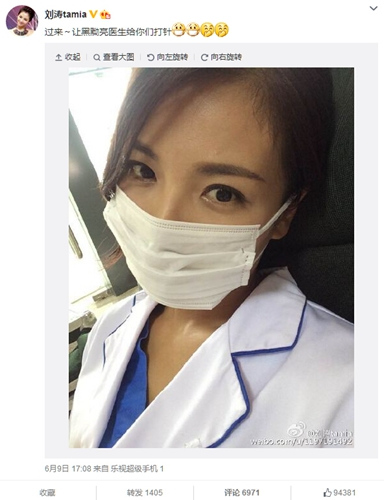mask: (101, 186, 260, 310)
